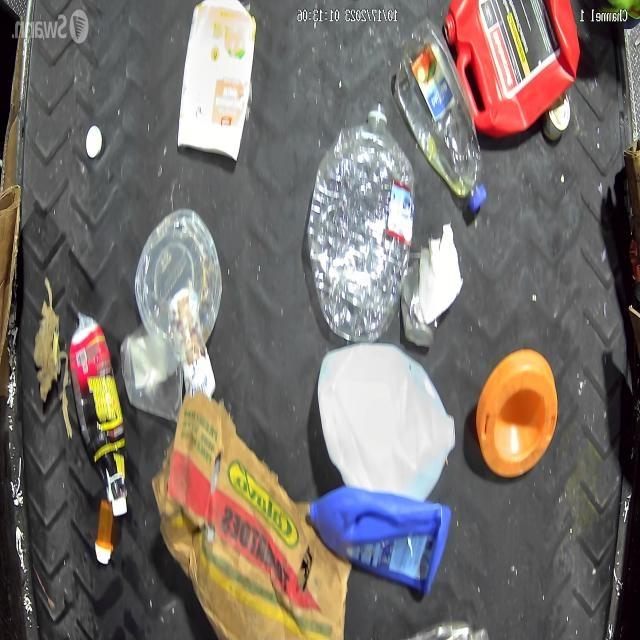milk_jug: (318, 350, 454, 496)
non_white_jug: (457, 0, 576, 138), (306, 484, 450, 592)
plastic_bottle: (306, 106, 415, 342), (394, 30, 484, 205)
